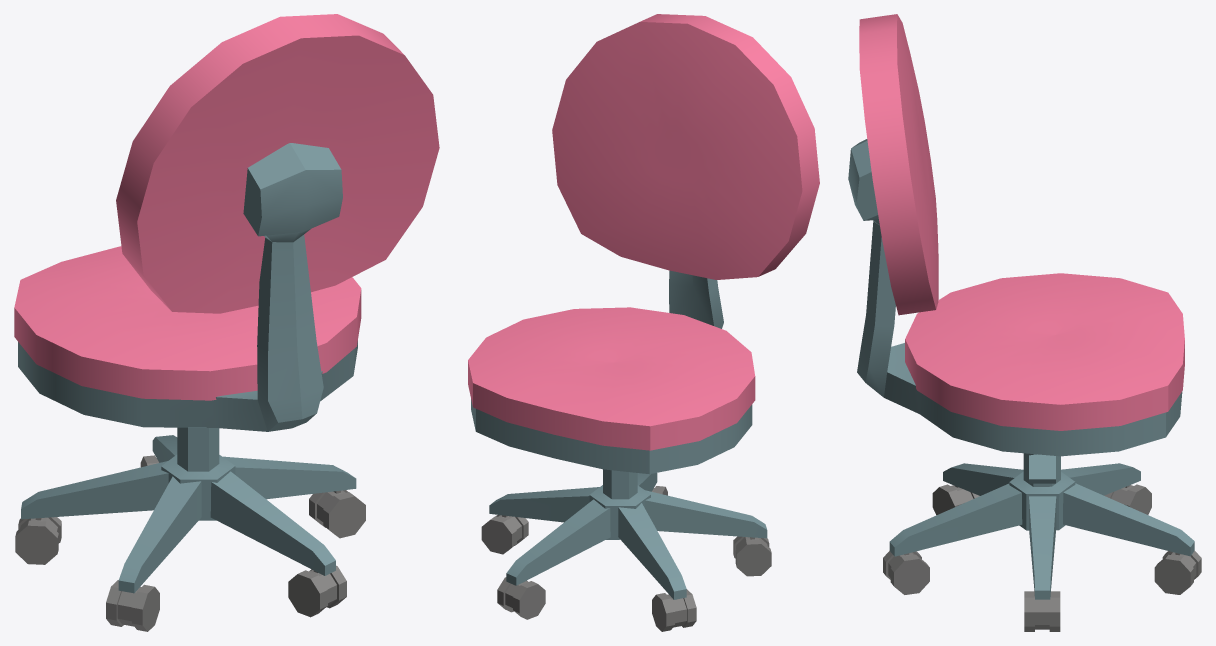
File: chair.fbx
The picture shows the model from 3 angles, left to right: view 1: azimuth 30°, elevation 25°; view 2: azimuth 150°, elevation 25°; view 3: azimuth 270°, elevation 25°; orthographic projection. The views are drawn at different scales.
Visible parts, largest first — view 1: chair; view 2: chair; view 3: chair.
Part boxes in pixels (x1=…): chair: x1=14, y1=14, x2=439, y2=631; chair: x1=468, y1=14, x2=819, y2=631; chair: x1=848, y1=14, x2=1201, y2=631.
Bounding box in the file's own units: 52.68 × 98.75 × 58.64.
